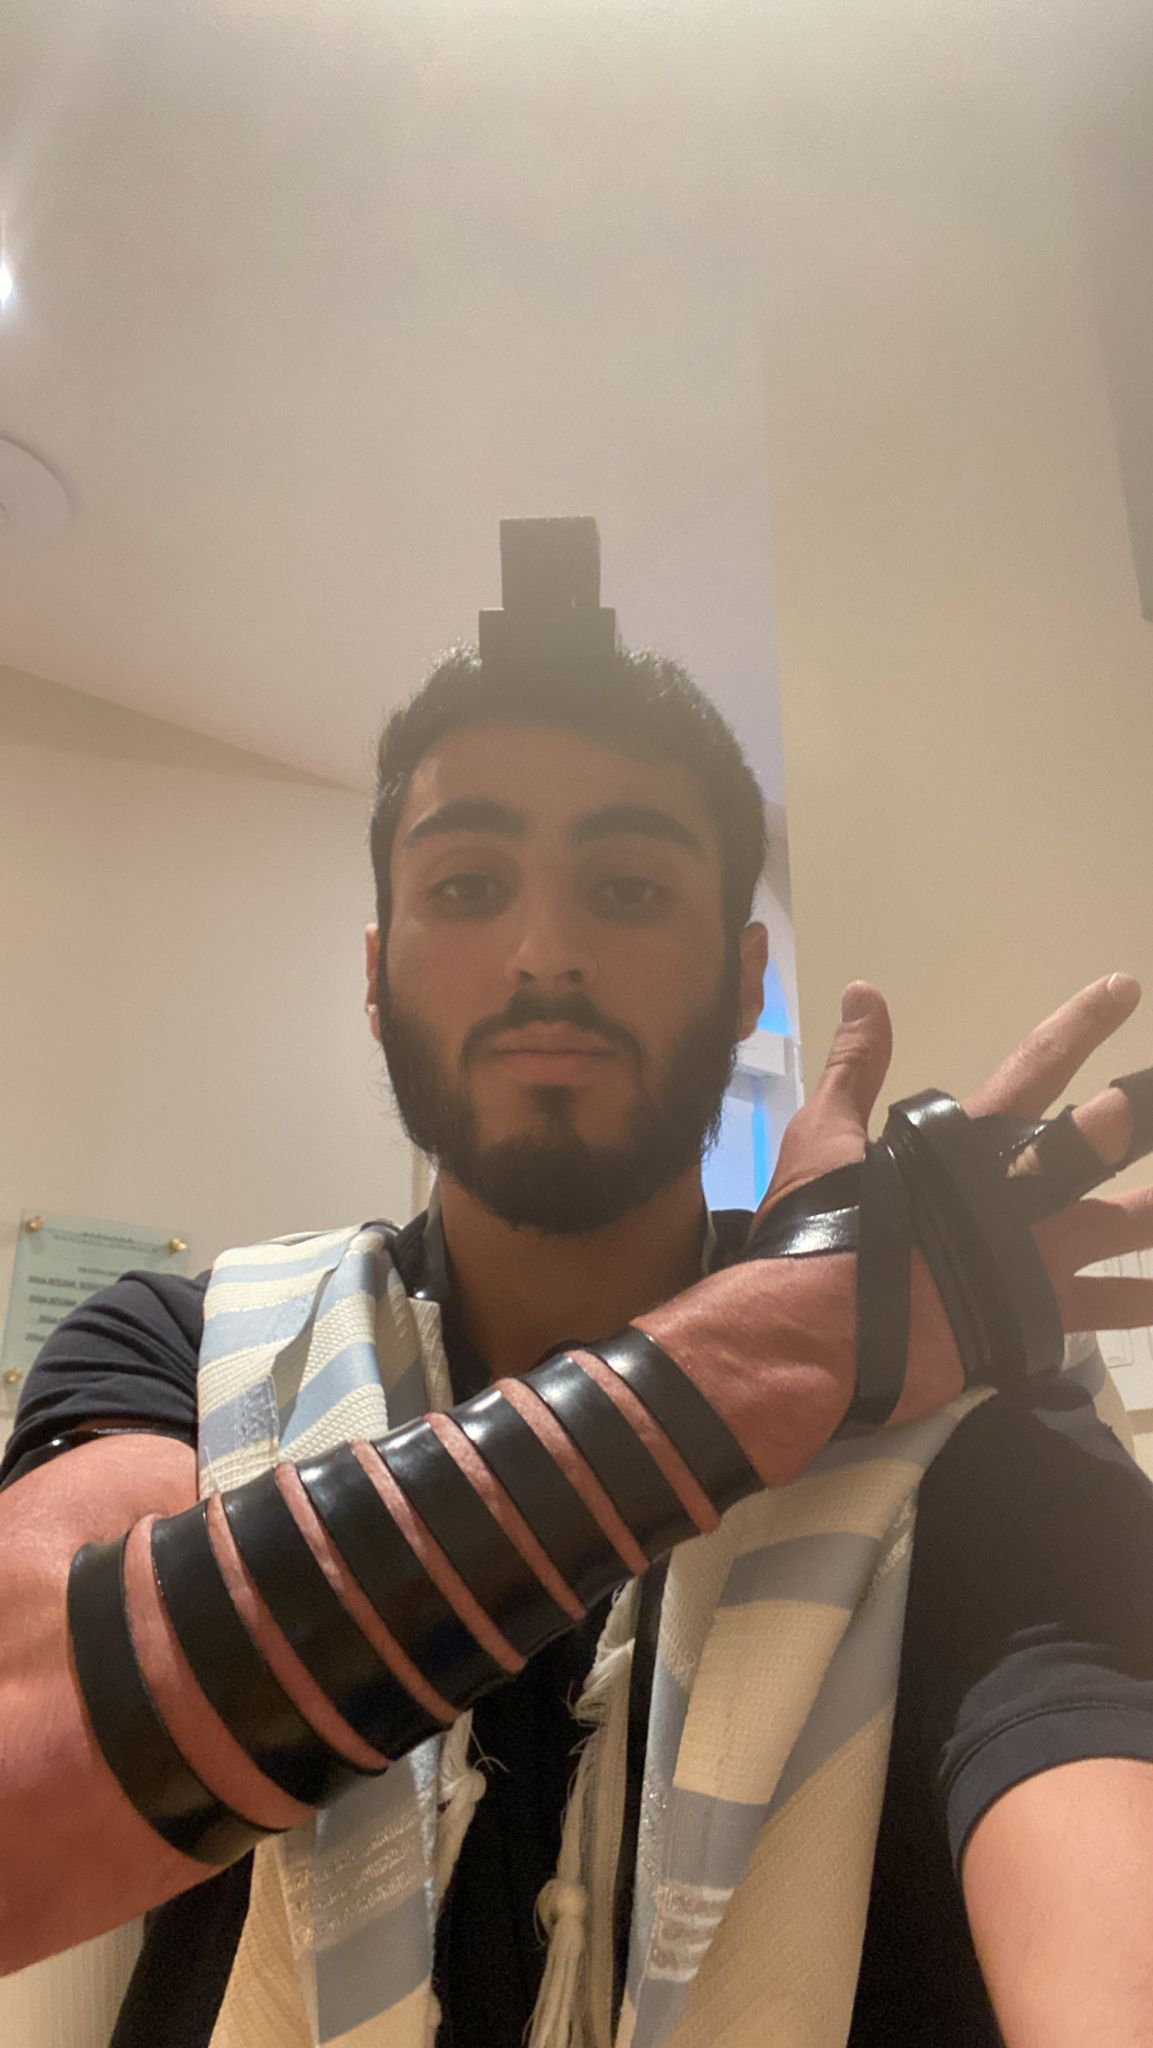tefillin: (468, 512, 630, 678)
